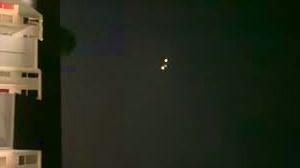Plane: (148, 51, 183, 77)
